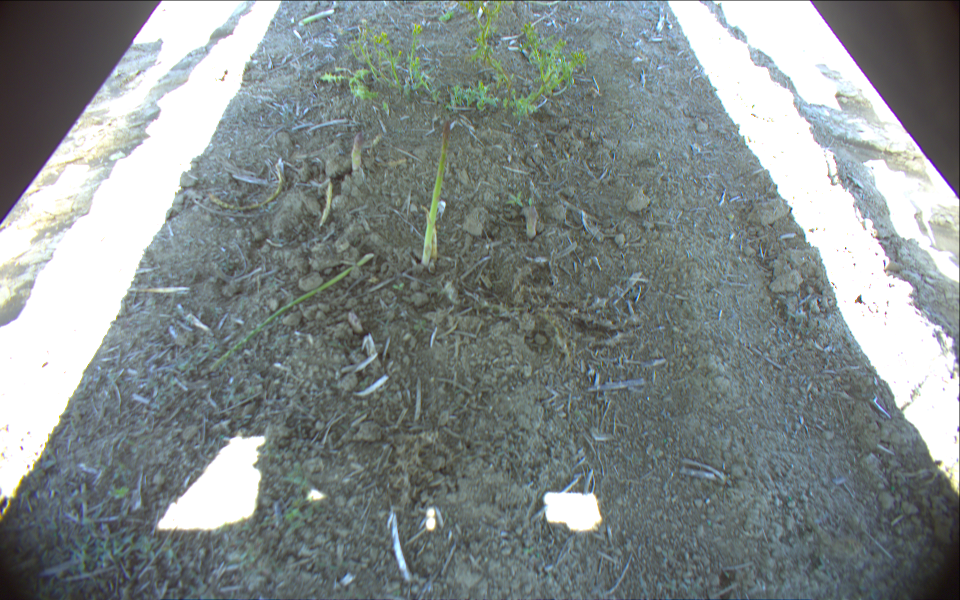aspa: (419, 118, 454, 271)
